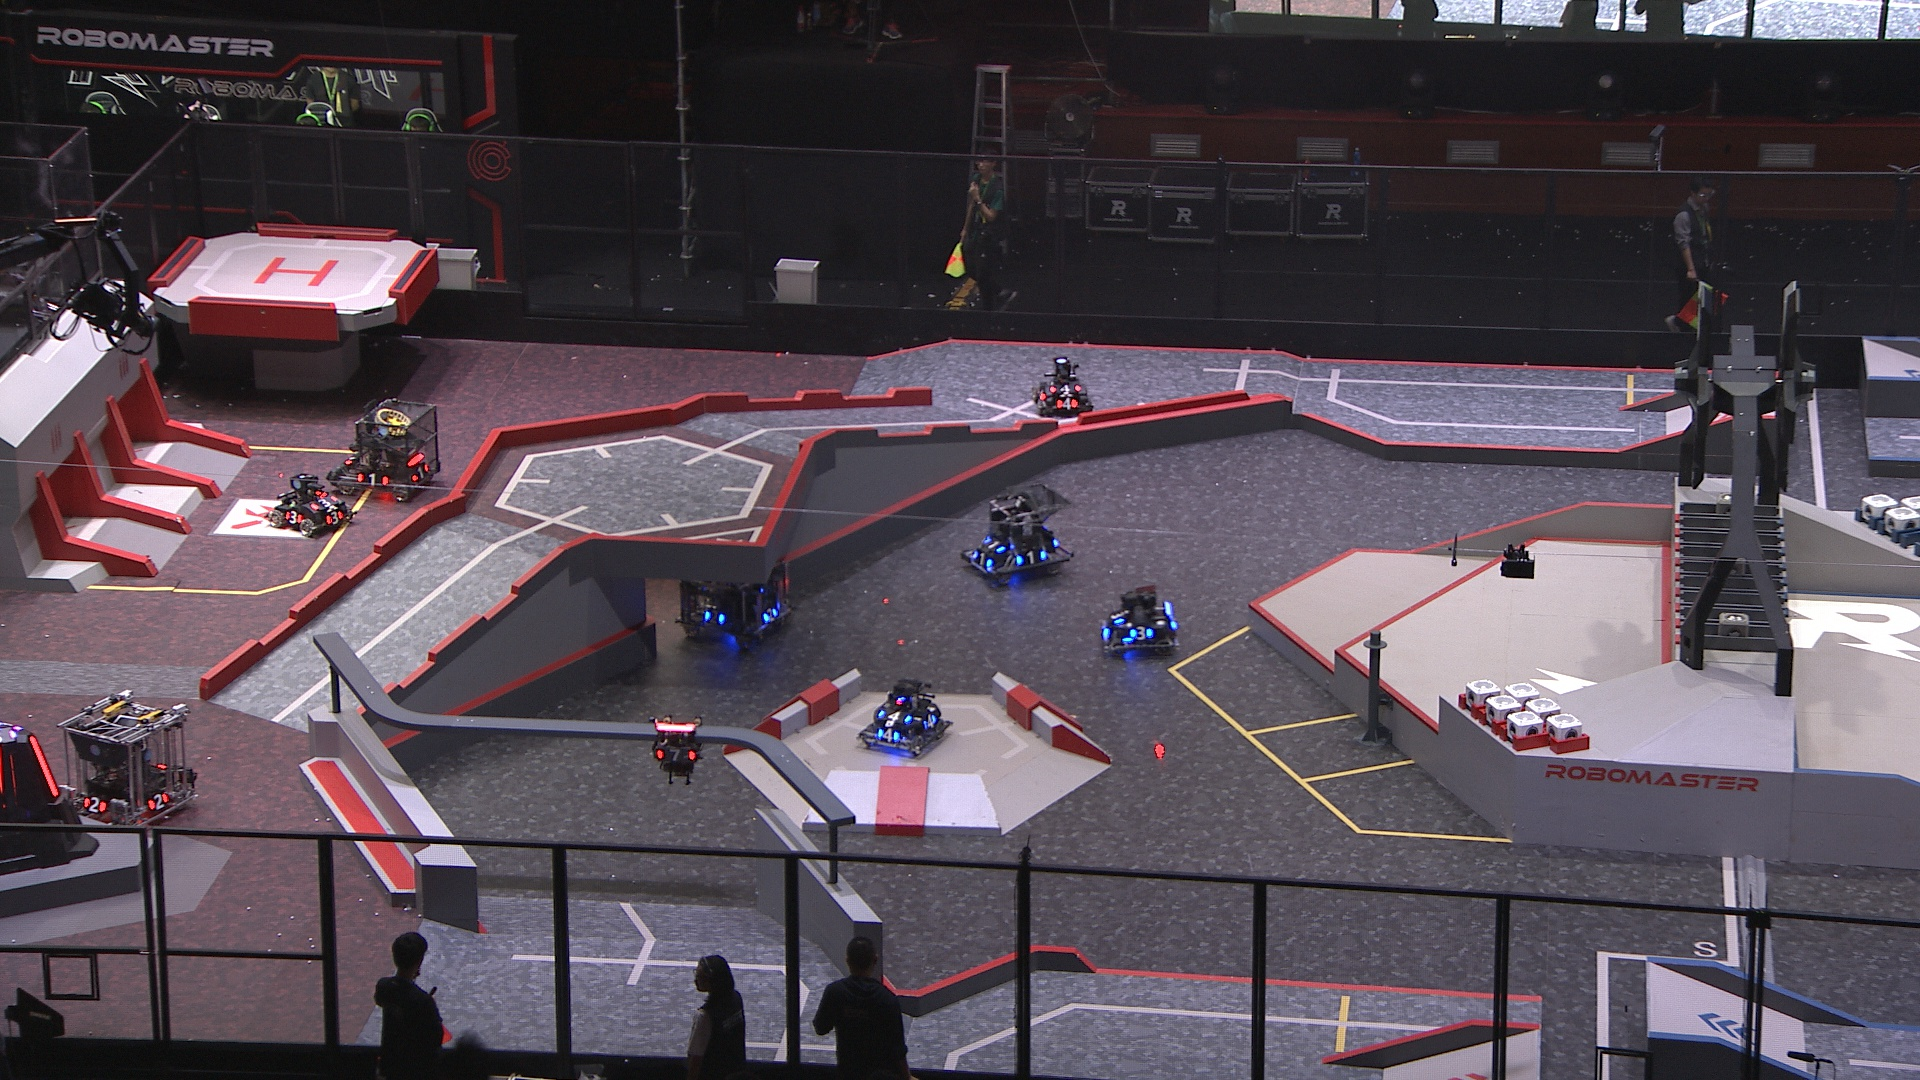armor: (26, 733, 59, 800), (655, 746, 698, 764), (877, 707, 913, 725), (76, 793, 107, 812), (1015, 549, 1048, 564), (144, 790, 171, 808), (982, 534, 1006, 555), (874, 727, 903, 744), (357, 471, 386, 488), (313, 495, 338, 512), (1109, 608, 1126, 632), (324, 509, 345, 527), (704, 607, 723, 628), (1129, 622, 1150, 641), (972, 551, 993, 570), (410, 463, 430, 481), (1051, 382, 1079, 396), (284, 510, 302, 527), (922, 713, 939, 732), (764, 605, 781, 624), (1054, 400, 1077, 413), (343, 448, 357, 465), (1035, 386, 1046, 405)
car: (674, 534, 796, 647), (332, 400, 446, 508), (961, 487, 1073, 580), (858, 676, 953, 760), (1102, 583, 1182, 657), (266, 472, 353, 535), (1031, 356, 1093, 419)
watcher: (647, 712, 704, 787)
